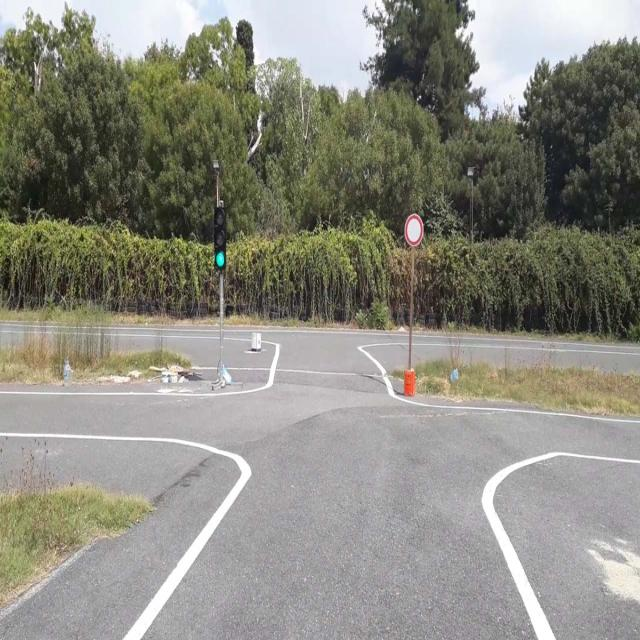yesil: (214, 209, 225, 267)
